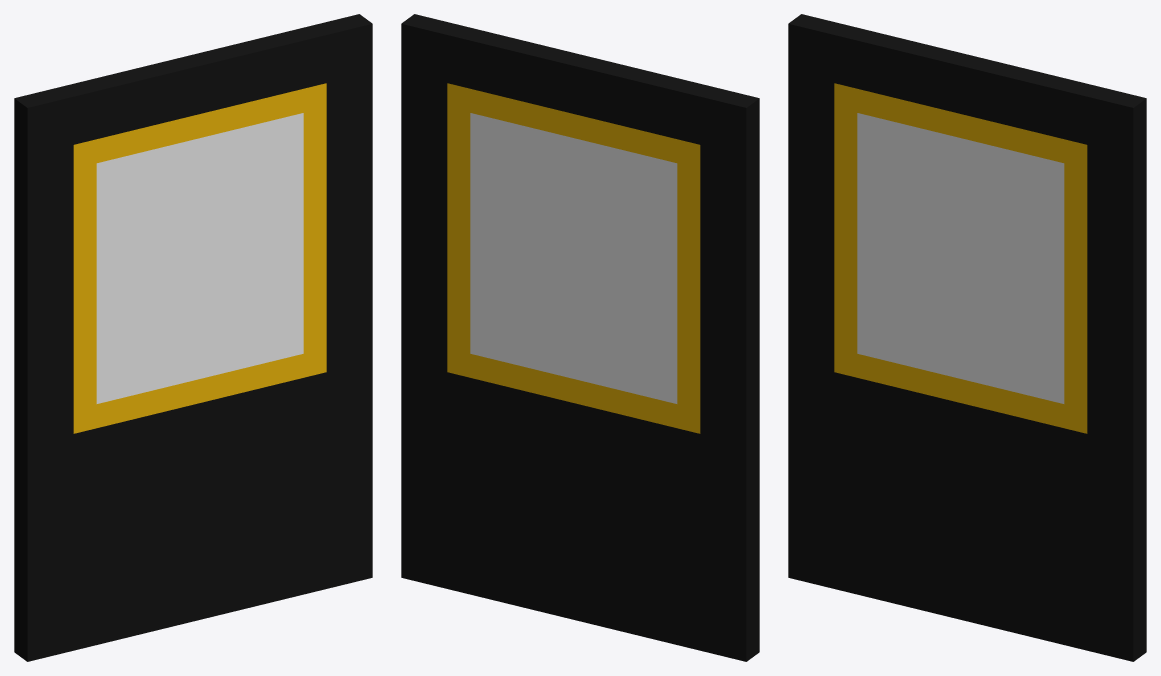
The model's file is BusDoor.fbx.
3 renders of one model, left to right at view 1: azimuth 30°, elevation 25°; view 2: azimuth 150°, elevation 25°; view 3: azimuth 330°, elevation 25°, orthographic.
Parts seen in each view (by area): view 1: BusDoor; view 2: BusDoor; view 3: BusDoor.
Boxes of the visible parts, box(x1,y1,x2,y2) form: BusDoor: box(14, 14, 372, 661); BusDoor: box(401, 14, 759, 661); BusDoor: box(788, 14, 1146, 661).
Size of the model in its own units: 1.5 by 2.3 by 0.1.
Materials: 1 (1 with a texture image).
